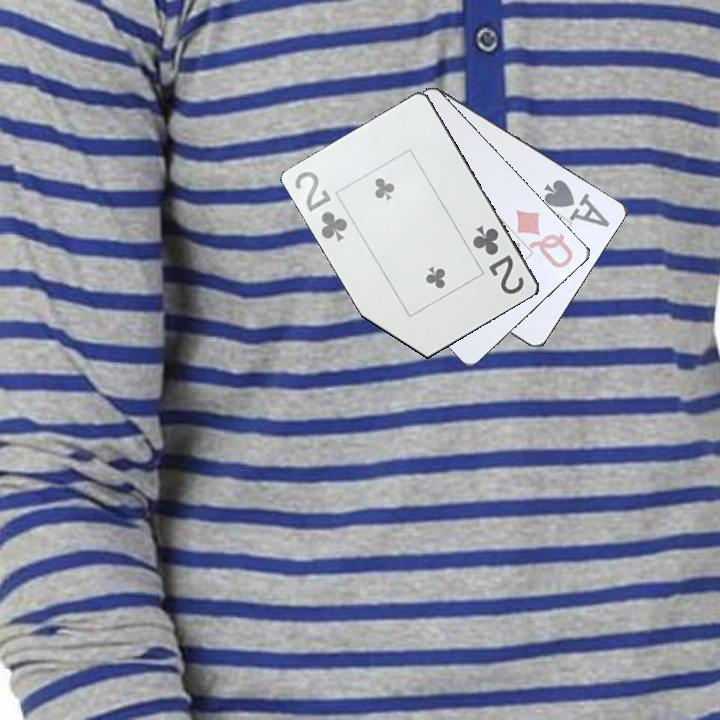2c: (291, 167, 351, 245), (469, 221, 528, 298)
As: (540, 176, 613, 230)
Qd: (513, 206, 577, 271)
